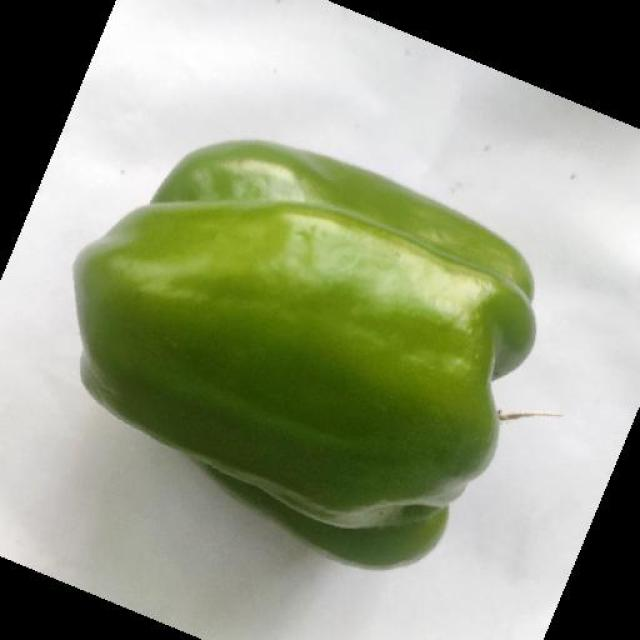Fresh_Capsicum: (89, 147, 524, 537)
